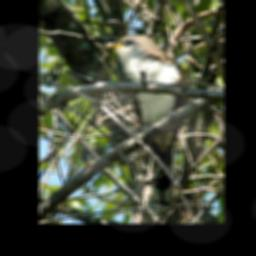Cuckoo: (99, 34, 191, 214)
